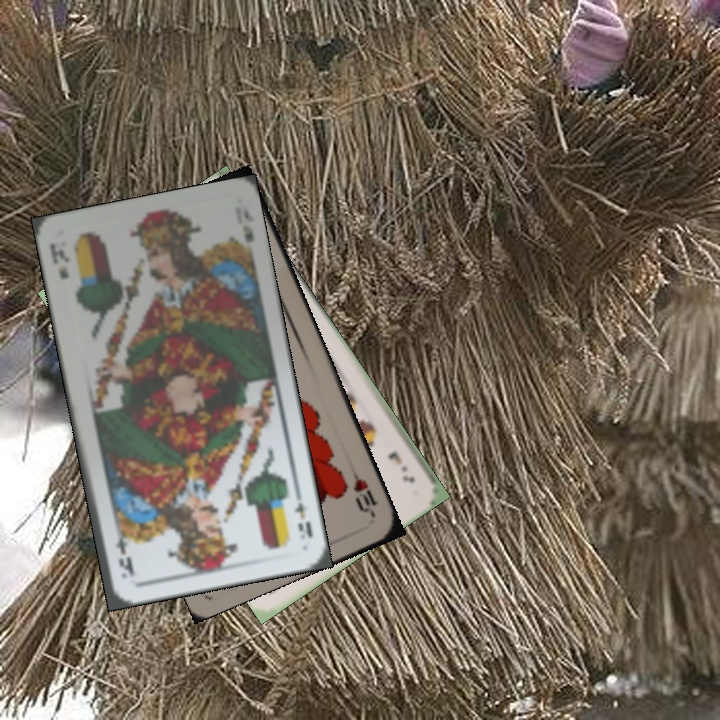E7: (383, 447, 418, 486)
EK: (290, 486, 315, 542), (45, 239, 73, 282)
H10: (346, 463, 379, 519)
